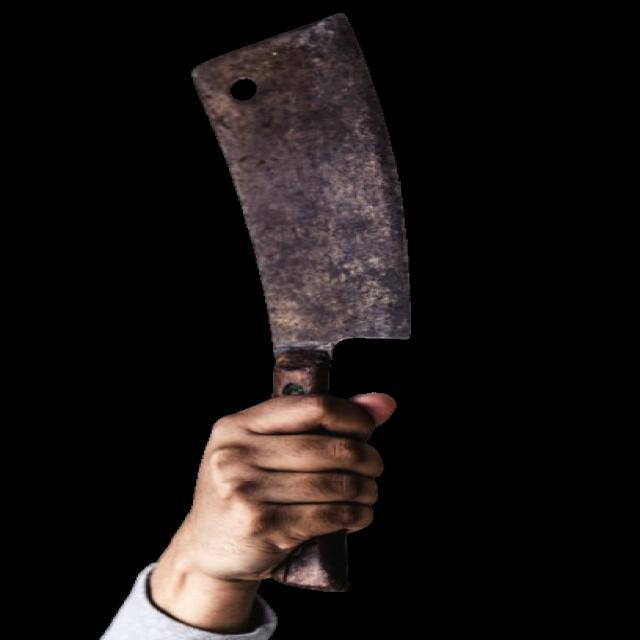knife: (87, 7, 424, 639)
